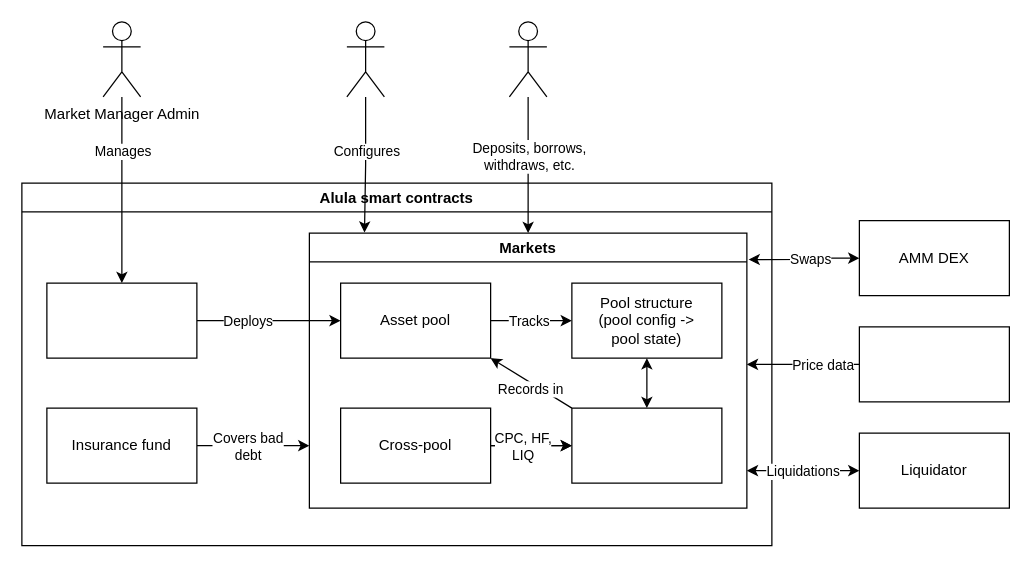
Image size: 1031x568. Some labels were removed from this diagram. Each missing label, with the centre of its shape:
Market Admin: pixel 365 59
Market Manager: pixel 121 320
Oracle: pixel 933 364
User: pixel 527 59
User/ Multiply obligations: pixel 646 445
